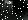person: (7, 2, 13, 14)
